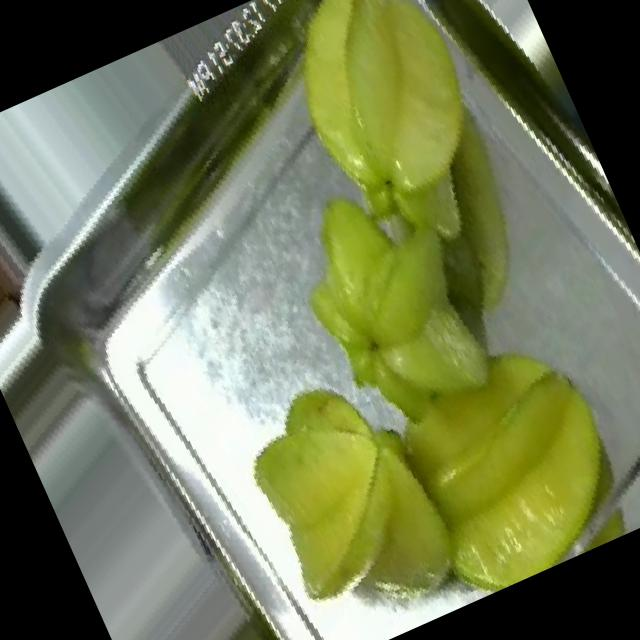fruit: (230, 107, 594, 503), (301, 264, 640, 630), (221, 0, 589, 331), (187, 335, 475, 640), (0, 115, 93, 380)
